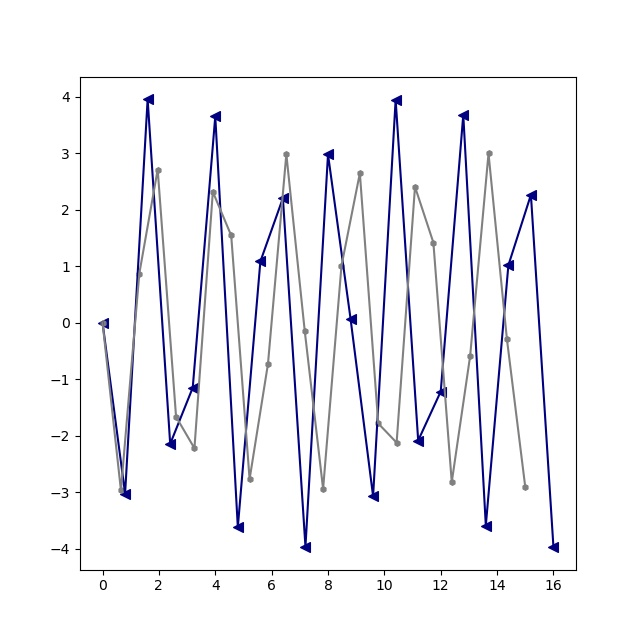hexagon1: (99, 319, 108, 328), (117, 486, 126, 495), (135, 270, 144, 279), (154, 166, 163, 175), (172, 413, 181, 422), (190, 444, 199, 453), (209, 188, 218, 197), (227, 231, 236, 240), (246, 475, 255, 484), (264, 360, 273, 369), (282, 150, 291, 159), (301, 327, 310, 336), (319, 485, 328, 494), (337, 262, 346, 271), (356, 169, 365, 178), (374, 419, 383, 428), (393, 439, 402, 448), (411, 183, 420, 192), (429, 239, 438, 248), (448, 478, 457, 487), (466, 352, 475, 361), (485, 149, 494, 158), (503, 335, 512, 344), (521, 483, 530, 492)
triangle_left: (97, 317, 109, 329), (120, 488, 132, 500), (142, 94, 154, 106), (165, 438, 177, 450), (187, 382, 199, 394), (210, 111, 222, 123), (232, 522, 244, 534), (255, 256, 267, 268), (277, 193, 289, 205), (300, 541, 312, 553), (322, 149, 334, 161), (345, 313, 357, 325), (368, 491, 380, 503), (390, 94, 402, 106), (413, 435, 425, 447), (435, 386, 447, 398), (458, 109, 470, 121), (480, 520, 492, 532), (503, 260, 515, 272), (525, 189, 537, 201), (548, 542, 560, 554)
